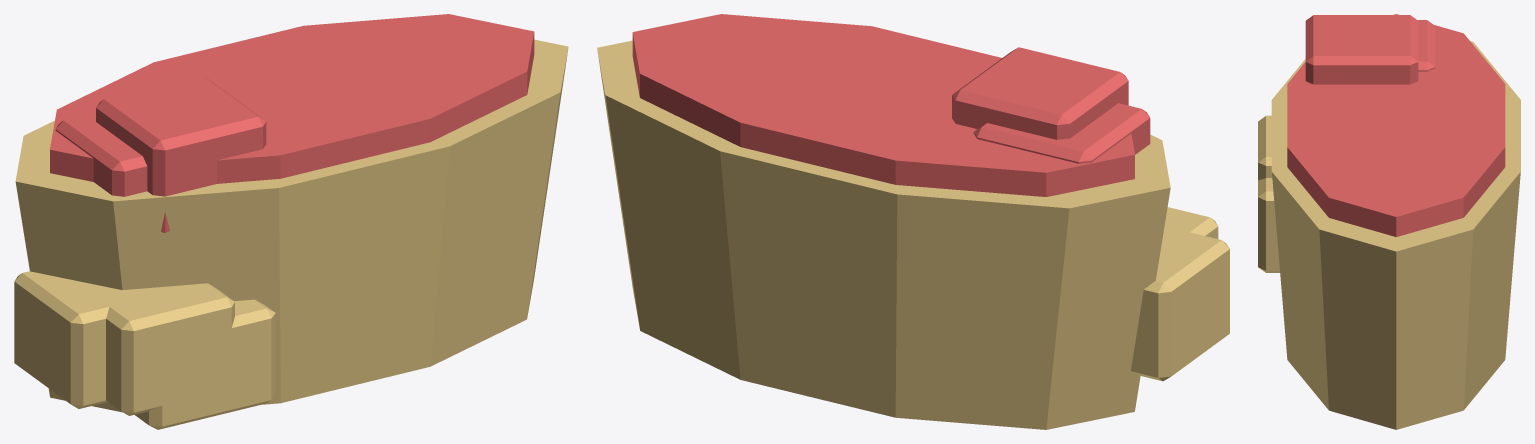
Rendered from b16_discarded_bottle_cork.glb.
3 renders of one model, left to right at view 1: azimuth 30°, elevation 25°; view 2: azimuth 150°, elevation 25°; view 3: azimuth 270°, elevation 25°, orthographic. The views are drawn at different scales.
Visible parts, largest first — view 1: b16_discarded_bottle_cork; view 2: b16_discarded_bottle_cork; view 3: b16_discarded_bottle_cork.
Part boxes in pixels (box(x1,y1,x2,y2)): b16_discarded_bottle_cork: box(14, 14, 568, 429); b16_discarded_bottle_cork: box(597, 14, 1229, 429); b16_discarded_bottle_cork: box(1258, 14, 1520, 429).
Size of the model in its own units: 0.046 by 0.022 by 0.022.
